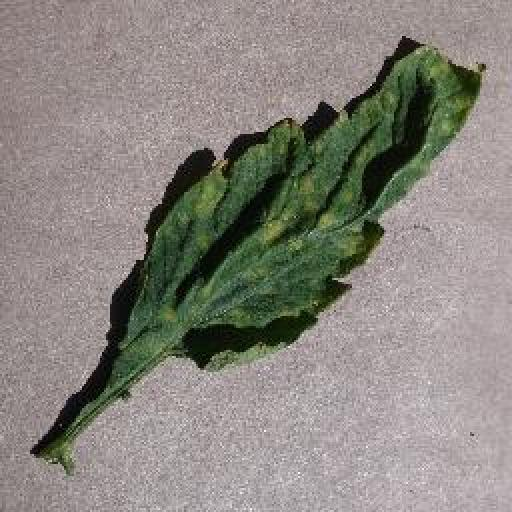Leaf Mold: (124, 43, 482, 369)
